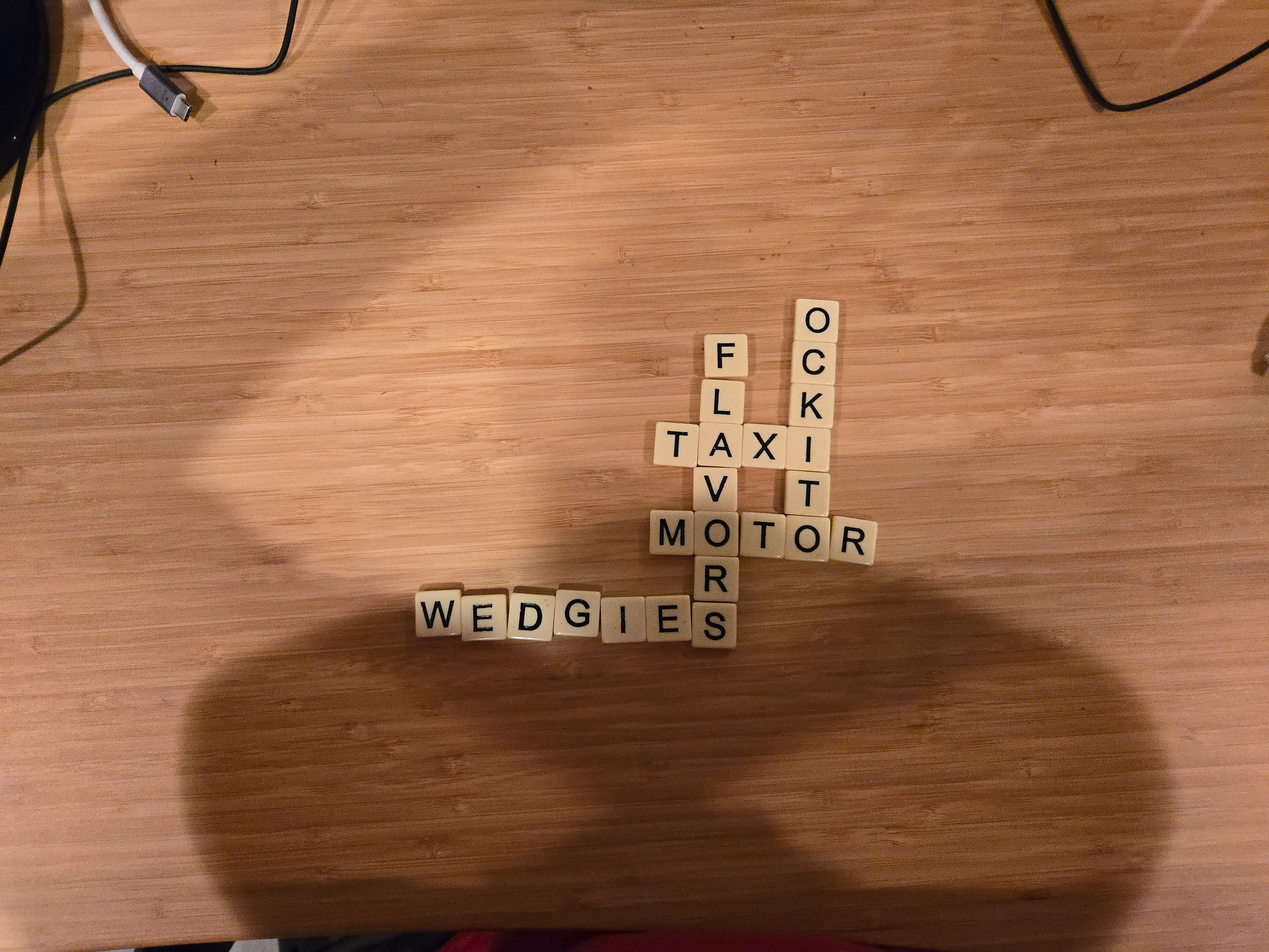Tile: (830, 516, 877, 565), (461, 592, 508, 641), (508, 592, 555, 641), (415, 589, 462, 637), (554, 589, 601, 637), (740, 423, 788, 469), (784, 469, 830, 516), (645, 595, 691, 641), (693, 556, 739, 602), (740, 512, 786, 558), (693, 466, 738, 512), (785, 516, 831, 561), (601, 597, 646, 643), (692, 602, 737, 648), (697, 423, 743, 468), (693, 511, 739, 556), (700, 379, 745, 424), (794, 299, 839, 344), (649, 510, 694, 555), (791, 340, 835, 386), (789, 384, 835, 428), (653, 422, 699, 466), (786, 427, 831, 471), (704, 334, 748, 378), (825, 520, 827, 522)
